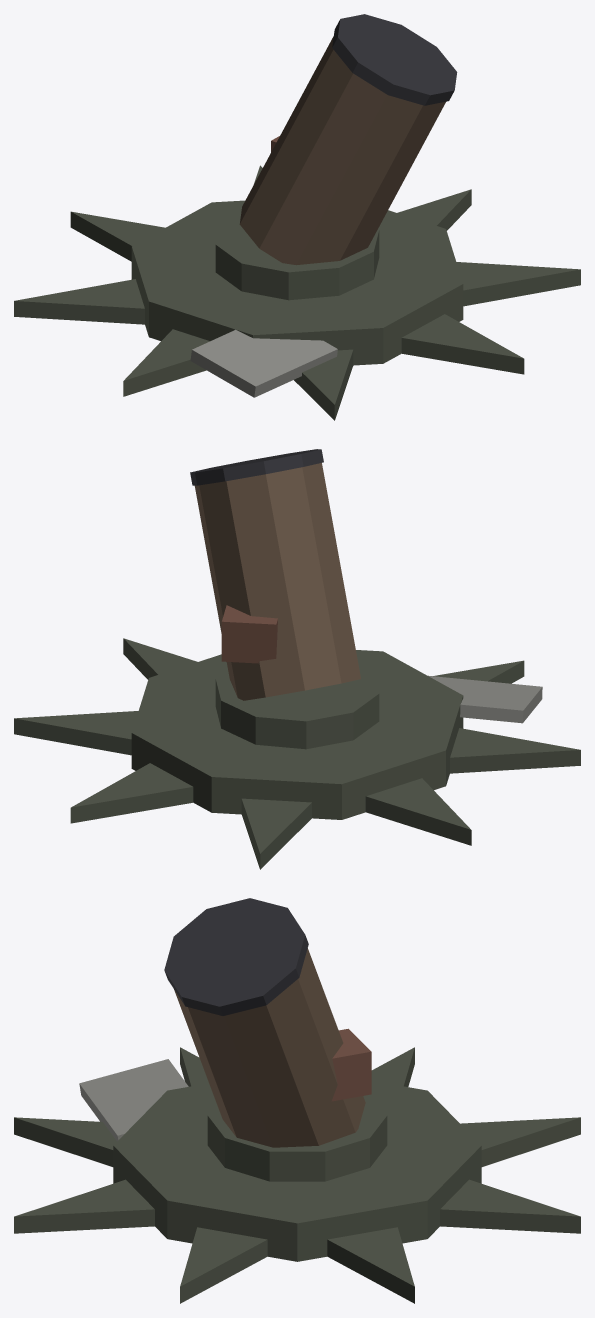
The model's file is ancient_mortar_1.obj.
3 views of the same model, one above another, from view 1: azimuth 30°, elevation 25°; view 2: azimuth 150°, elevation 25°; view 3: azimuth 270°, elevation 25° (orthographic). The views are drawn at different scales.
Parts seen in each view (by area): view 1: ancient_mortar_1; view 2: ancient_mortar_1; view 3: ancient_mortar_1.
Boxes of the visible parts, left/top/right/bottom form: ancient_mortar_1: left=14, top=14, right=580, bottom=420; ancient_mortar_1: left=14, top=449, right=580, bottom=869; ancient_mortar_1: left=14, top=898, right=580, bottom=1303.
Bounding box in the file's own units: 2.4 × 1.39 × 2.4.
